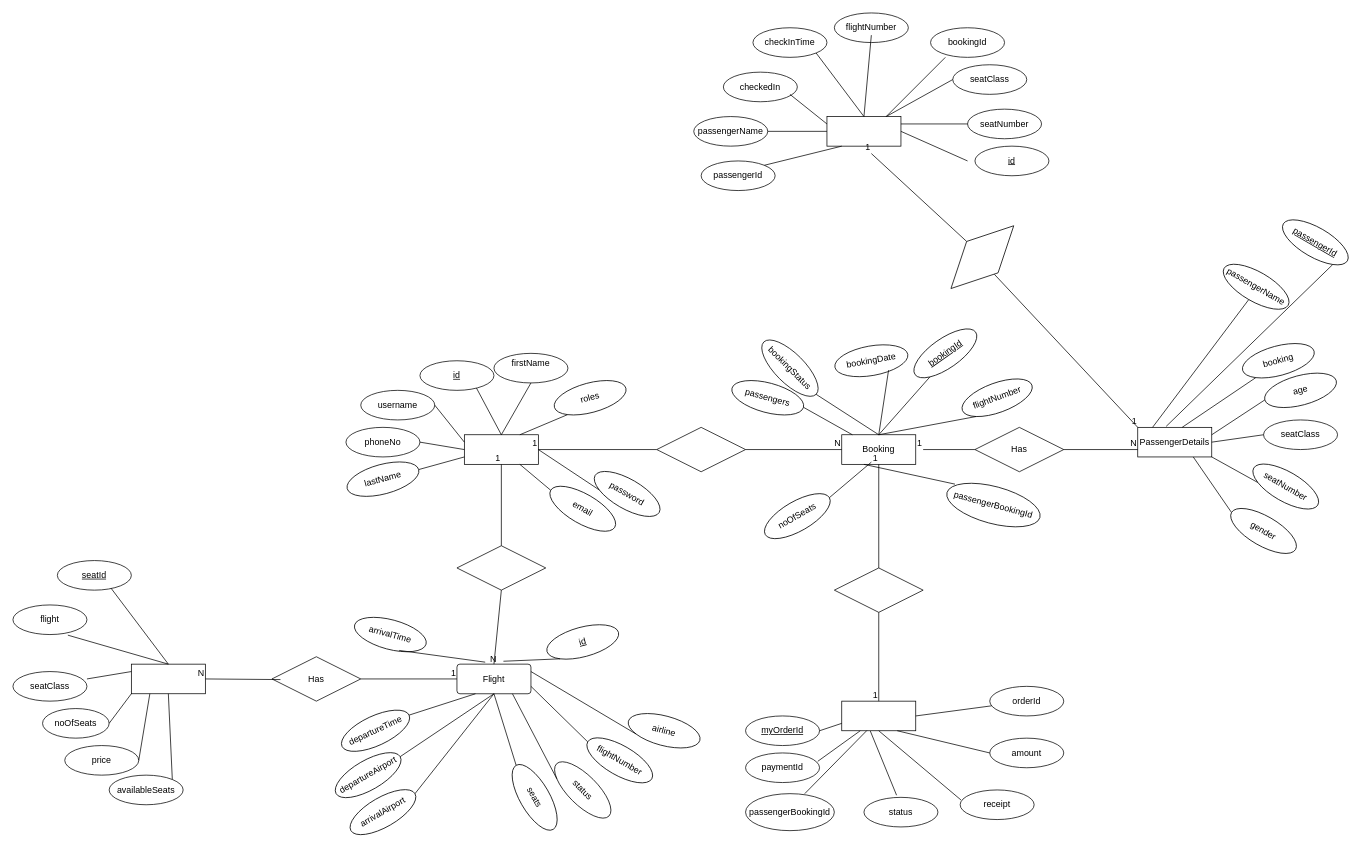
The diagram is 1368 pixels wide and 857 high, and some of its shapes have lost their labels. Each missing label, with the box of its shape:
Books: (656, 427, 746, 472)
CheckIn: (826, 116, 901, 146)
does: (934, 209, 1030, 304)
Makes: (834, 567, 923, 612)
Payment: (841, 700, 916, 731)
Searchs For: (456, 545, 546, 590)
Seat: (131, 663, 205, 694)
USER: (464, 434, 538, 464)
